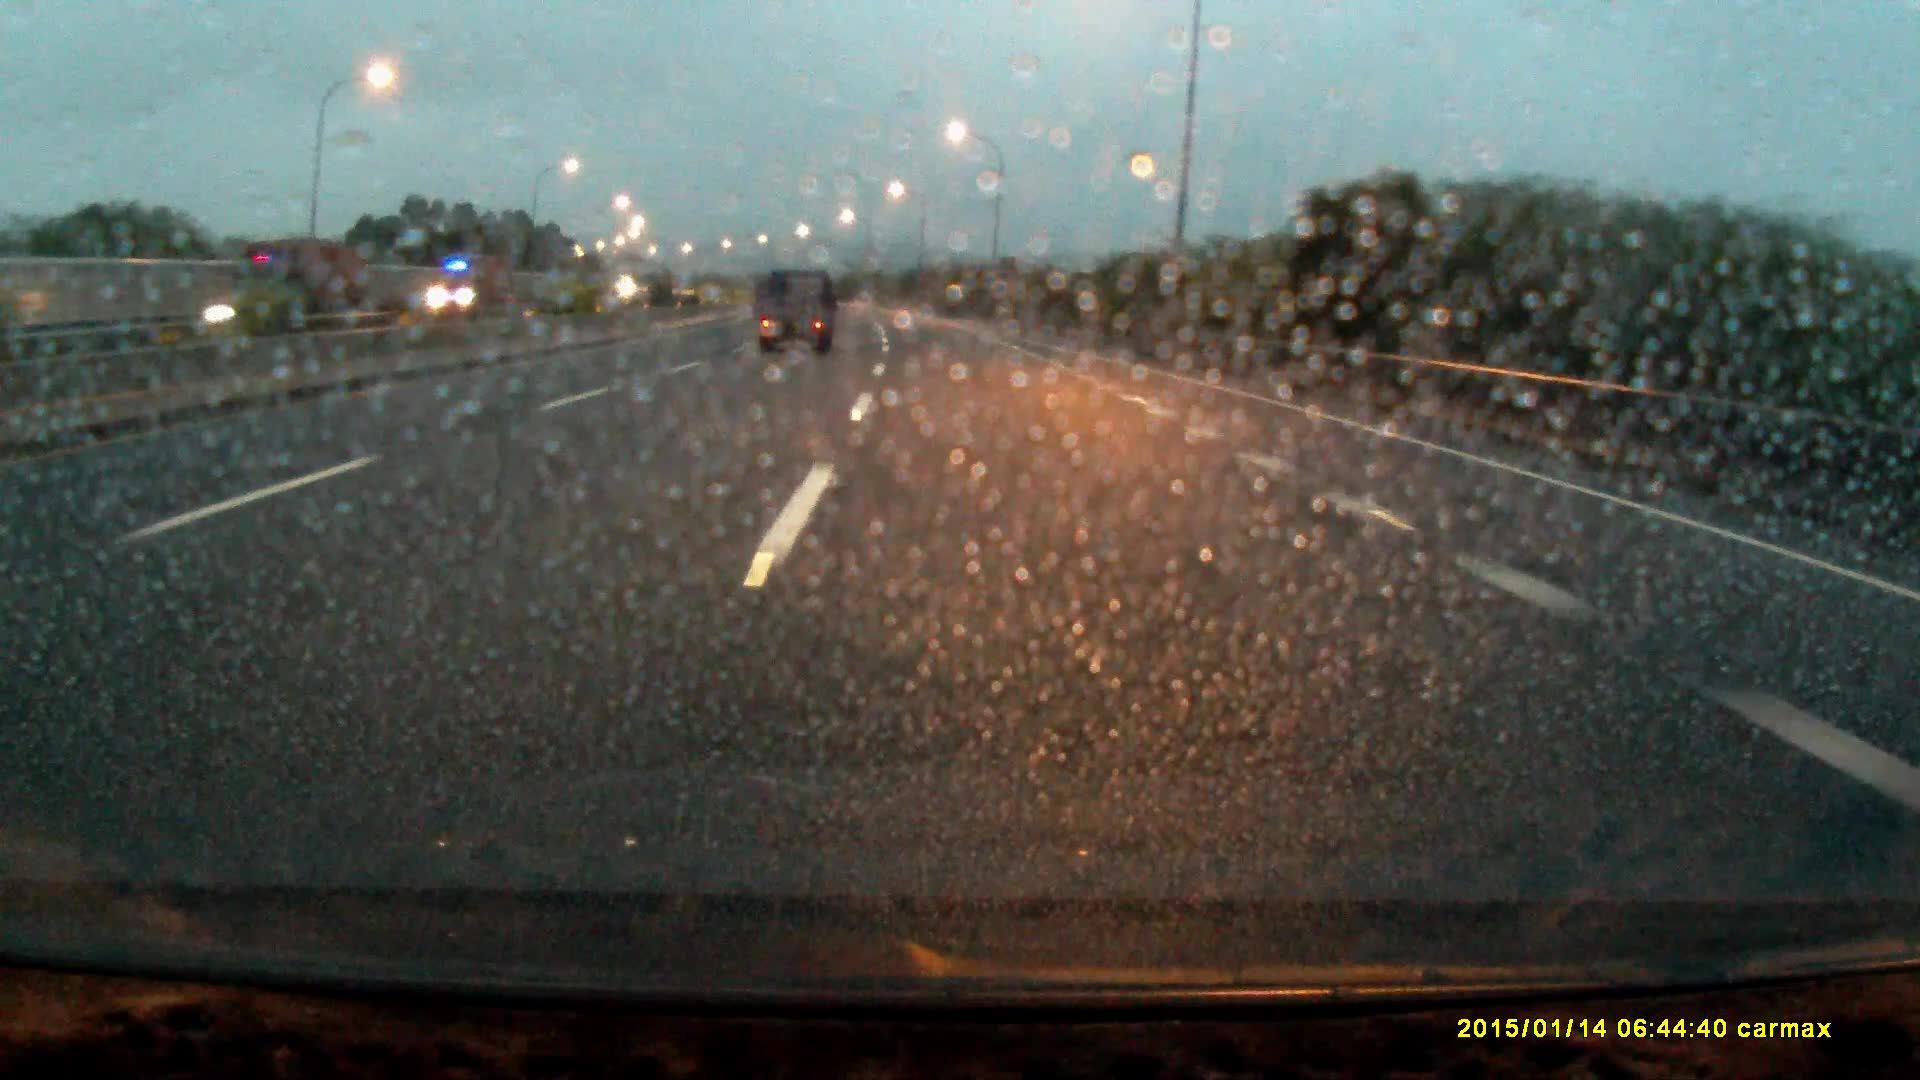vehicle: (207, 244, 365, 330), (756, 272, 835, 361), (425, 251, 509, 316)
